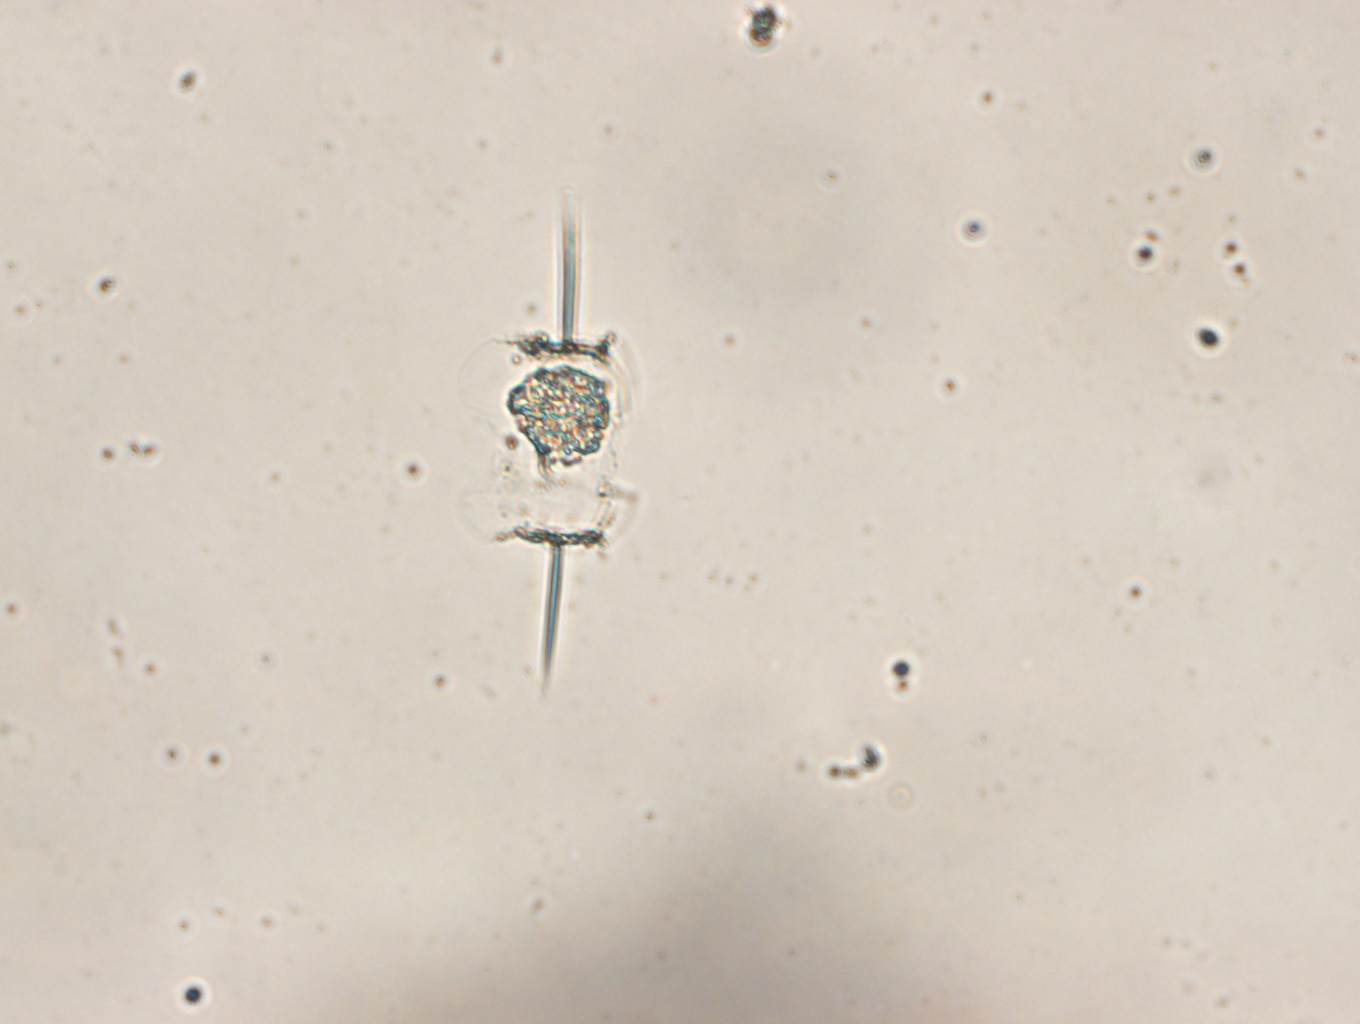ditylum: (463, 193, 644, 699)
